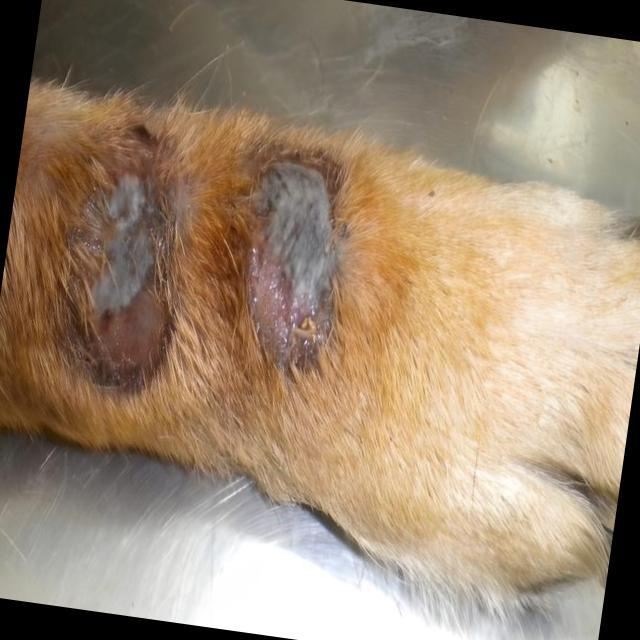allergic dermatitis: (45, 155, 175, 388), (232, 152, 354, 382)
